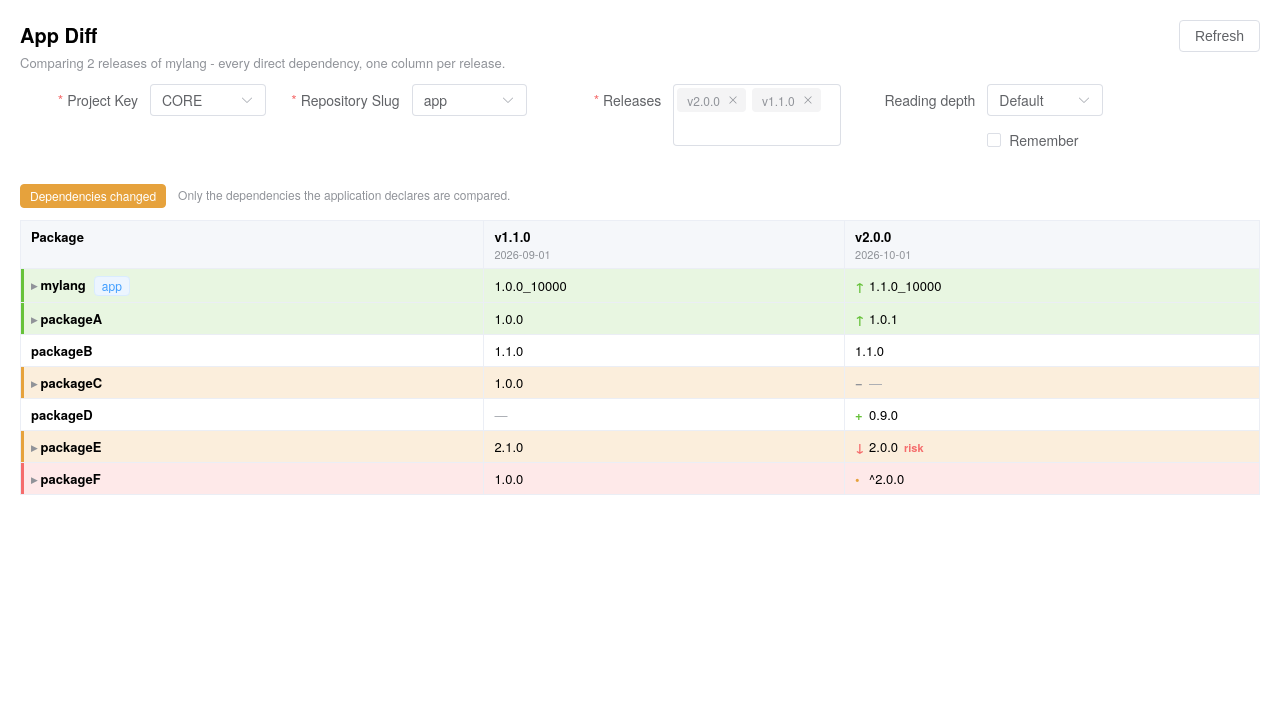
Scenario: AppDiffView › says so when no repository is registered for a package
Click the row with test id "matrix-row-packageE" at (640, 447), box [20,431,1260,463]
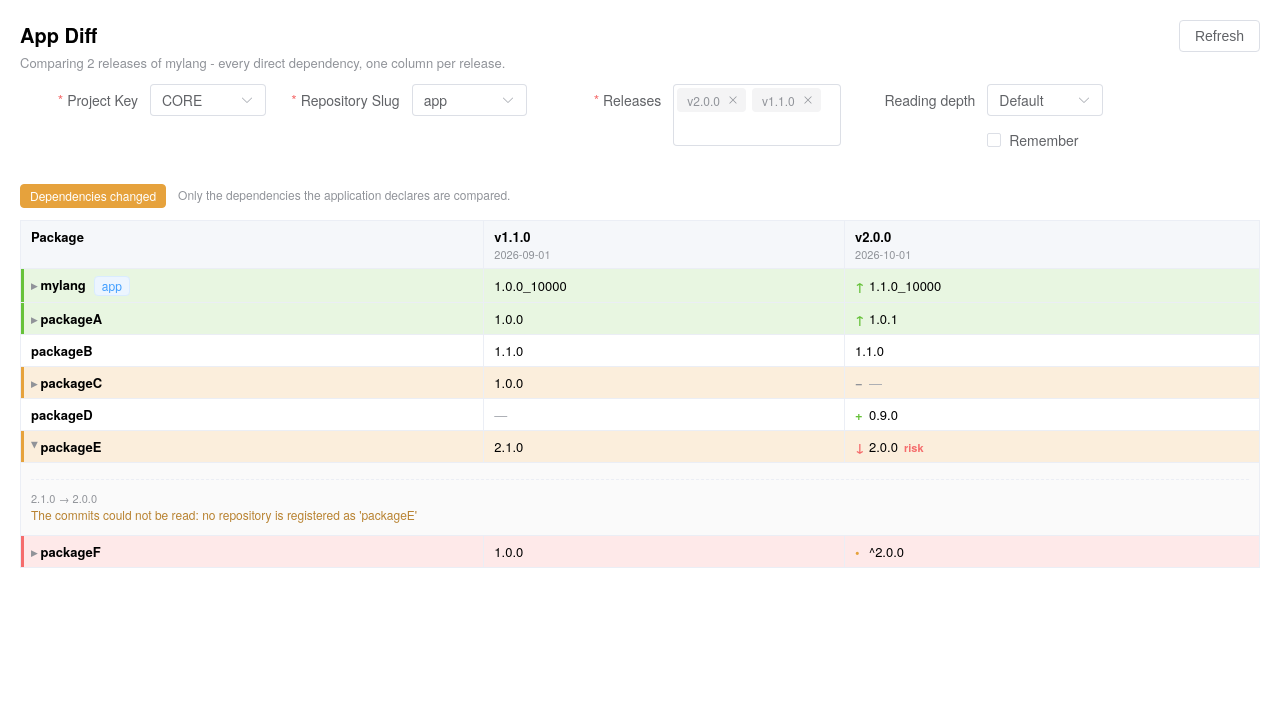
Result: the text with test id "matrix-packageE-unavailable" shows "no repository is registered as 'packageE'" at [31,506,417,523]
